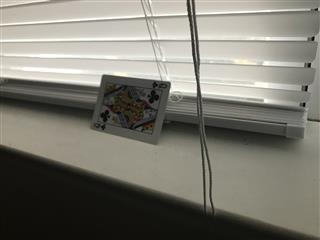QueenOfClubs: (89, 73, 172, 146)
